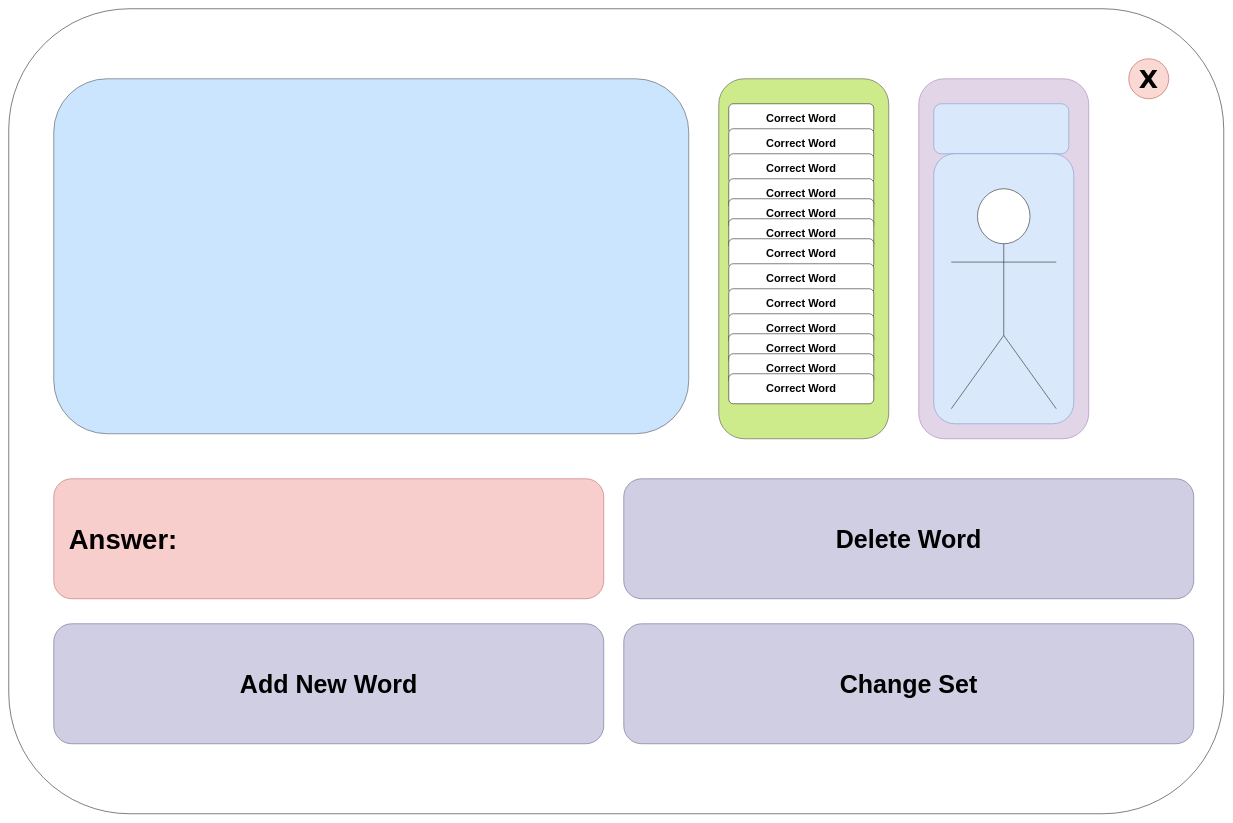
The diagram is 1233 pixels wide and 823 high, and some of its shapes have lost their labels. The shapes that lost their labels are listed below. From the top down, each one's centre as x and y in pixels, then its label:
the point at 1001,128: Username
the point at 371,256: Question
